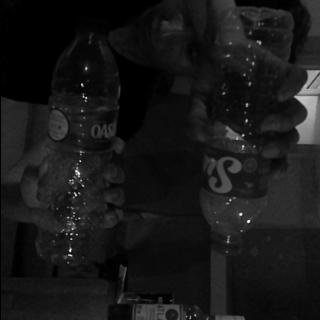plastic_bottles: (198, 7, 292, 257), (35, 20, 126, 268)
